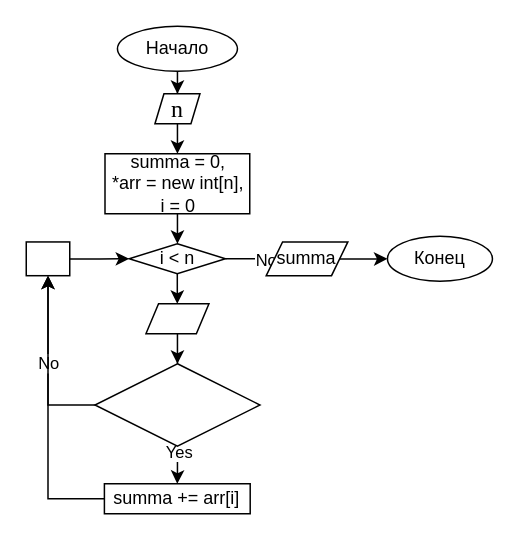
The diagram is 519 pixels wide and 540 high, and some of its shapes have lost their labels. Each missing label, with the centre of its shape:
arr[i]: the point at 176,318
arr[i] < 0 && arr[i] % 2 == 0: the point at 176,404
i++: the point at 47,258
